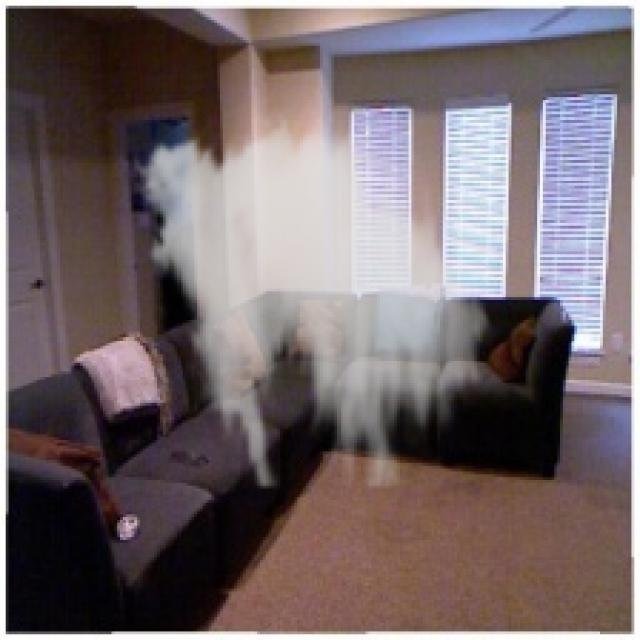smoke: (123, 109, 500, 488)
